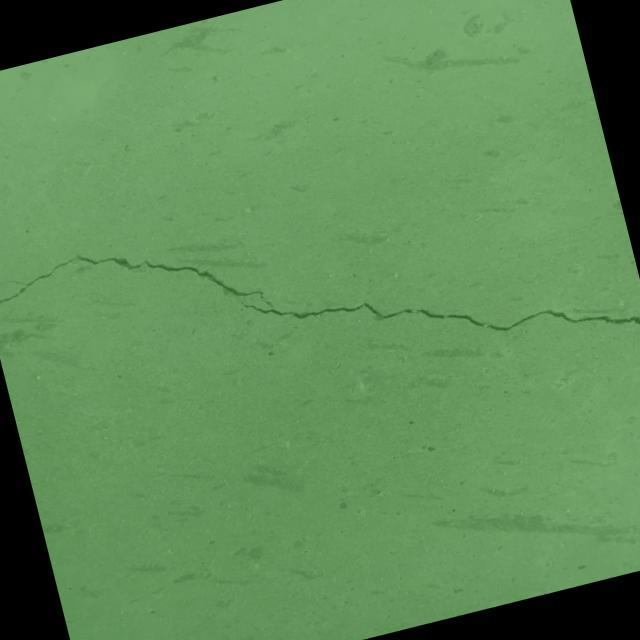crack: (0, 123, 640, 488)
